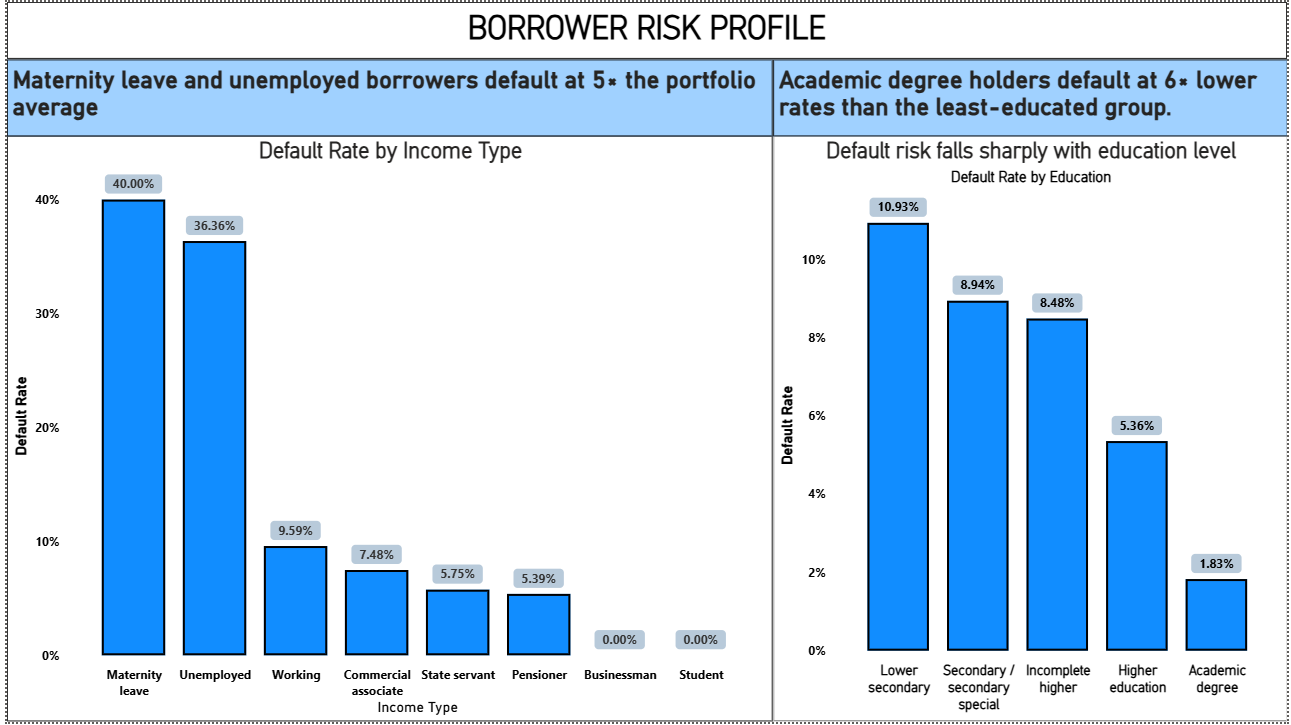

The page's visual inventory and layout, read from the dashboard file:
{"tool":"powerbi","page":{"name":"Borrower Risk Profile","canvas":[1280,720],"ordinal":1},"visuals":[{"type":"textbox","title":"JGJGJVB","box":[0,0,1280,57.1],"z":0},{"type":"clusteredColumnChart","title":"Default Rate by Income Type","fields":{"Category":["cleaned_data.NAME_INCOME_TYPE"],"Y":["cleaned_data.Overall Default Rate"]},"box":[0,134.3,765.7,585.7],"z":5},{"type":"clusteredColumnChart","title":"Default risk falls sharply with education level","fields":{"Category":["cleaned_data.NAME_EDUCATION_TYPE"],"Y":["cleaned_data.Overall Default Rate"]},"box":[765.7,134.3,514.3,585.7],"z":6},{"type":"textbox","box":[0,57.1,765.7,77.1],"z":7},{"type":"textbox","box":[765.7,57.1,514.3,77.1],"z":8}]}

Visuals, with their boxes in screenshot pixels (x1, y1, x2, y2), scaled from the page's 1280x720 canvas onto the 1291x725 screenshot:
"JGJGJVB" textbox: select_region(0, 0, 1290, 57)
"Default Rate by Income Type" clusteredColumnChart: select_region(0, 135, 772, 724)
"Default risk falls sharply with education level" clusteredColumnChart: select_region(772, 135, 1290, 724)
textbox: select_region(0, 57, 772, 135)
textbox: select_region(772, 57, 1290, 135)
